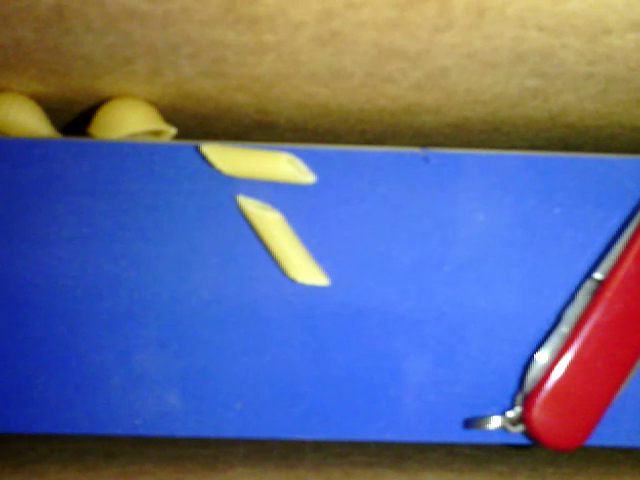penne: (232, 192, 332, 288), (200, 140, 316, 184)
shell: (88, 93, 181, 143), (1, 89, 71, 139)
